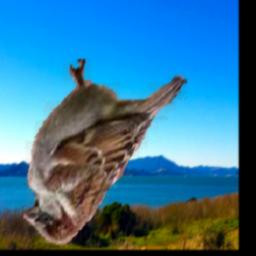Sparrow: (24, 60, 188, 246)
